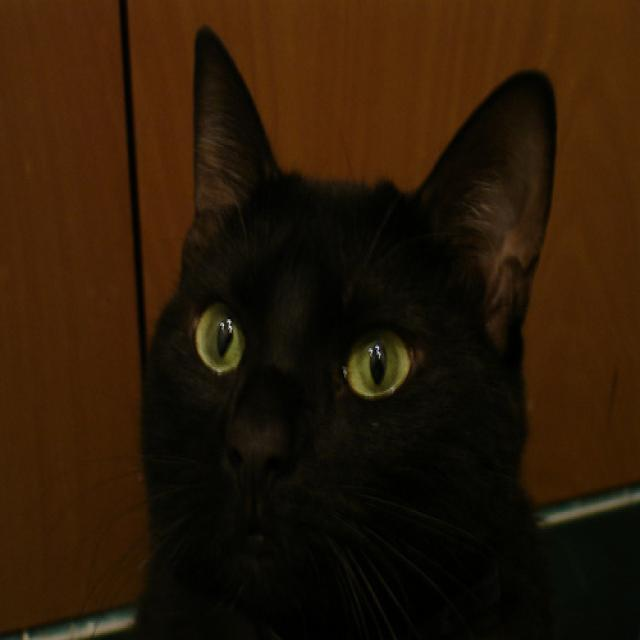cat: (120, 23, 562, 639)
